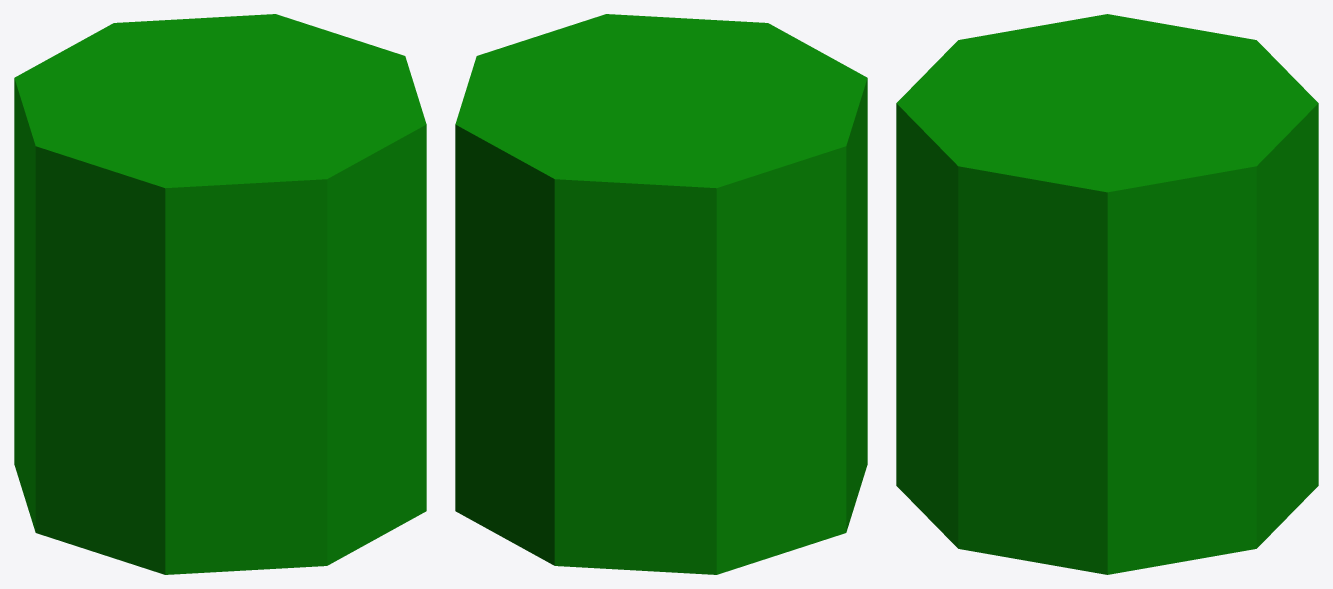
File: Stamp.fbx
3 views of the same model, side by side, from view 1: azimuth 30°, elevation 25°; view 2: azimuth 150°, elevation 25°; view 3: azimuth 270°, elevation 25° (orthographic).
Visible parts, largest first — view 1: pCylinder1; view 2: pCylinder1; view 3: pCylinder1.
Boxes of the visible parts, x1,y1,x2,y2 form: pCylinder1: (14,14,426,574); pCylinder1: (455,14,867,574); pCylinder1: (896,14,1318,574).
Size of the model in its own units: 1.6 by 1.6 by 1.6.
1 material, 1 textured.
